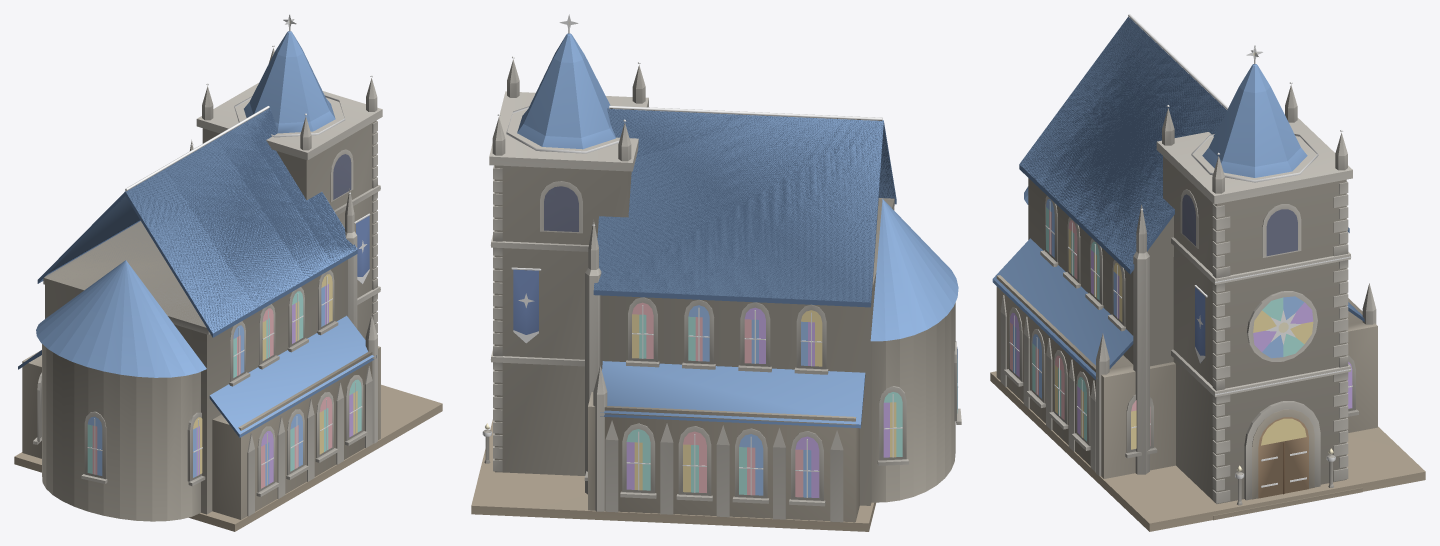
Rendered from church_hq.glb.
3 renders of one model, left to right at view 1: azimuth 30°, elevation 25°; view 2: azimuth 150°, elevation 25°; view 3: azimuth 270°, elevation 25°, orthographic. The views are drawn at different scales.
Parts seen in each view (by area): view 1: Church_stone, Church_roof, Church_glow, Church_gold, Church_props; view 2: Church_stone, Church_roof, Church_glow, Church_gold, Church_props; view 3: Church_stone, Church_roof, Church_glow, Church_props, Church_gold.
Part boxes in pixels (x1=…): Church_stone: x1=14, y1=48, x2=442, y2=531; Church_roof: x1=18, y1=31, x2=376, y2=437; Church_glow: x1=87, y1=21, x2=361, y2=488; Church_gold: x1=87, y1=14, x2=380, y2=485; Church_props: x1=333, y1=154, x2=369, y2=276; Church_stone: x1=471, y1=59, x2=961, y2=531; Church_roof: x1=517, y1=33, x2=958, y2=428; Church_glow: x1=485, y1=22, x2=957, y2=497; Church_gold: x1=482, y1=14, x2=958, y2=497; Church_props: x1=513, y1=186, x2=578, y2=334; Church_stone: x1=990, y1=84, x2=1425, y2=531; Church_roof: x1=992, y1=16, x2=1364, y2=379; Church_glow: x1=1010, y1=52, x2=1352, y2=471; Church_props: x1=1182, y1=194, x2=1308, y2=498; Church_gold: x1=1009, y1=14, x2=1352, y2=487.
Size of the model in its own units: 18.89 by 17.98 by 16.51.
